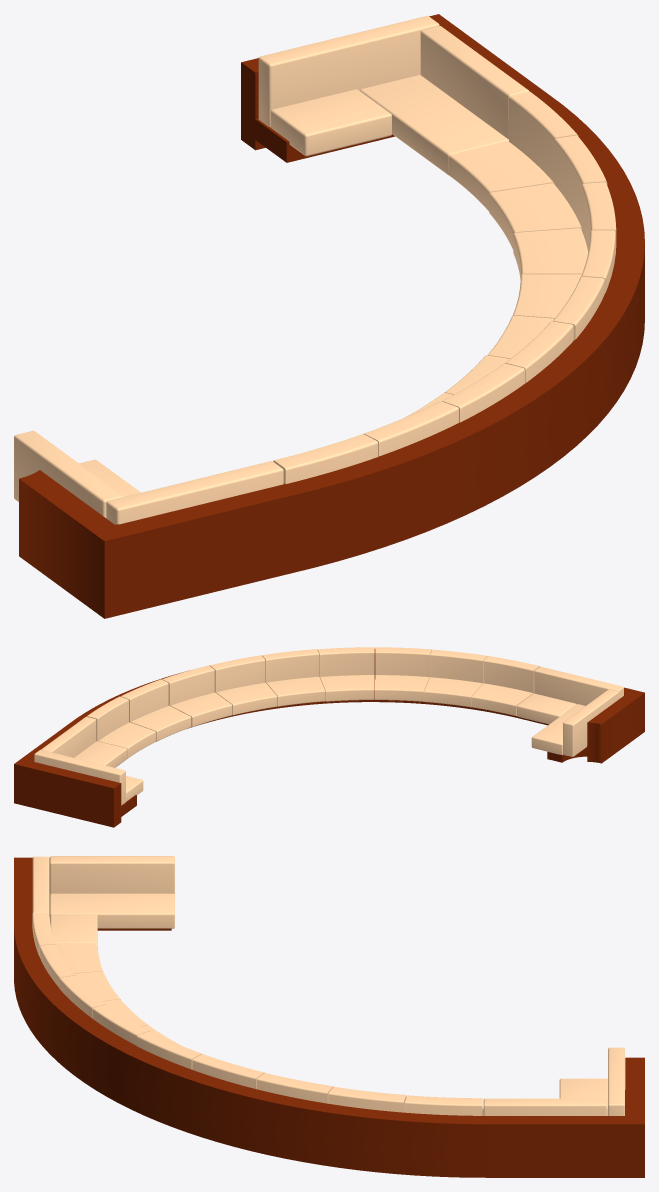
Rendered from uploads_files_1952751_sofa.fbx.
The picture shows the model from 3 angles, top to bottom: view 1: azimuth 30°, elevation 25°; view 2: azimuth 150°, elevation 25°; view 3: azimuth 270°, elevation 25°; orthographic projection. The views are drawn at different scales.
Parts seen in each view (by area): view 1: Null_2, Cube, Cube_8, Cube_1, Cube_9, Cube_3, Tube_8, Cube_4, Tube_7, Tube, Tube_6, Tube_10 (+9 smaller); view 2: Null_2, Cube_3, Tube_6_2, Tube_7_2, Tube_5_2, Tube_8_2, Cube_4, Tube_4, Tube_10, Cube, Tube_3, Tube_3_2 (+15 smaller); view 3: Null_2, Cube_4, Cube_5, Cube_1, Tube_2, Tube, Tube_3, Cube_6, Tube_4, Tube_5_2, Cube, Tube_9 (+7 smaller).
Boxes of the visible parts, x1,y1,x2,y2 form: Null_2: [19, 14, 644, 618]; Cube: [258, 15, 439, 127]; Cube_8: [360, 75, 508, 175]; Cube_1: [420, 26, 528, 139]; Cube_9: [271, 89, 391, 156]; Cube_3: [106, 461, 283, 524]; Tube_8: [448, 141, 554, 211]; Cube_4: [14, 430, 123, 517]; Tube_7: [489, 183, 581, 249]; Tube: [509, 91, 578, 183]; Tube_6: [513, 228, 588, 278]; Tube_10: [273, 434, 378, 483]; Null_2: [14, 649, 644, 827]; Cube_3: [534, 666, 623, 705]; Tube_6_2: [317, 647, 374, 677]; Tube_7_2: [375, 647, 431, 677]; Tube_5_2: [262, 649, 319, 682]; Tube_8_2: [430, 649, 487, 683]; Cube_4: [563, 689, 618, 756]; Tube_4: [209, 655, 265, 692]; Tube_10: [484, 656, 539, 693]; Cube: [34, 749, 125, 805]; Tube_3: [162, 665, 214, 705]; Tube_3_2: [320, 675, 374, 701]; Null_2: [14, 857, 644, 1177]; Cube_4: [50, 856, 174, 893]; Cube_5: [50, 893, 174, 928]; Cube_1: [483, 1098, 607, 1115]; Tube_2: [328, 1087, 406, 1112]; Tube: [405, 1095, 482, 1115]; Tube_3: [257, 1073, 333, 1103]; Cube_6: [50, 914, 97, 943]; Tube_4: [192, 1054, 264, 1089]; Tube_5_2: [136, 1031, 202, 1069]; Cube: [608, 1047, 624, 1115]; Tube_9: [55, 943, 102, 973].
Size of the model in its own units: 37.25 by 4.22 by 37.25.
